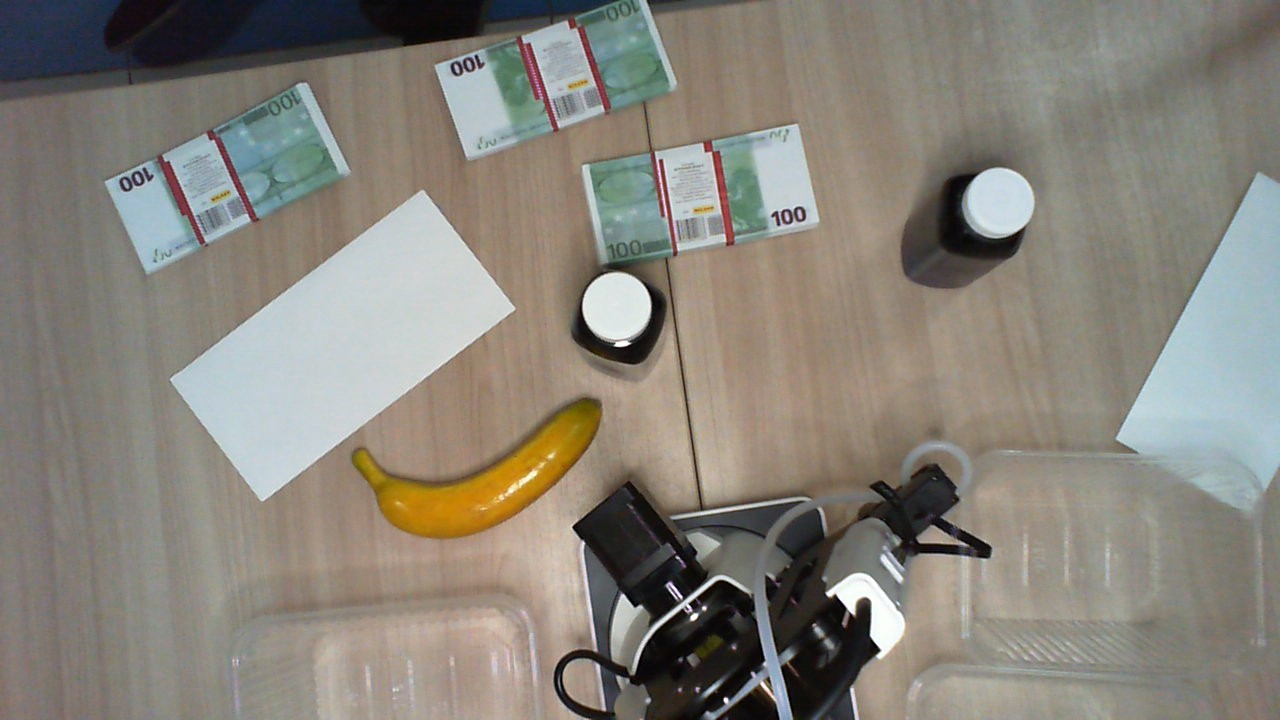banana: (353, 398, 605, 537)
bottle: (942, 165, 1036, 260), (573, 269, 668, 361)
convert: (169, 187, 517, 504), (1112, 172, 1280, 510)
money: (101, 78, 357, 276), (434, 1, 675, 163), (583, 125, 821, 269)
